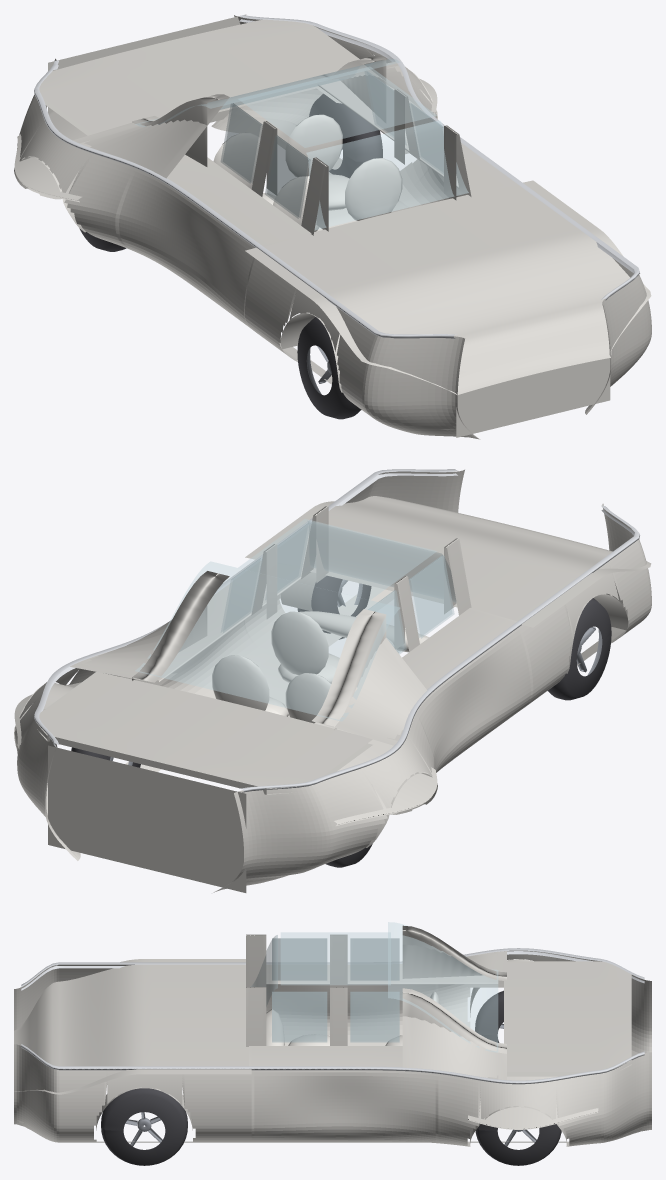
Rendered from ev-sedan-curve.glb.
3 renders of one model, top to bottom at view 1: azimuth 30°, elevation 25°; view 2: azimuth 150°, elevation 25°; view 3: azimuth 270°, elevation 25°, orthographic. The views are drawn at different scales.
Parts seen in each view (by area): view 1: BodyHood, BodySide_L, BodyDeck, Windshield, RoofGlass, BodySide_R, BodyNose, BodyCPillar_L, BodyBeltShelf_L, BodyBeltShelf_R, BodyBeltLip_L, InteriorSeatFRBack (+21 smaller); view 2: BodySide_L, BodyHood, BodyDeck, RearWindow, BodyFascia, BodySide_R, RoofGlass, BodyCPillar_L, BodyCPillar_R, Windshield, BodyBeltShelf_L, BodyBeltShelf_R (+20 smaller); view 3: BodySide_R, BodyHood, BodyDeck, BodySide_L, RearWindow, BodyCPillar_R, RoofGlass, WheelFRTire, BodyCPillar_L, BodyBeltShelf_R, BodyBeltShelf_L, SideWindowFR (+15 smaller).
Part boxes in pixels (box(x1,y1,x2,y2)): BodyHood: box(245, 180, 651, 394); BodySide_L: box(17, 58, 480, 439); BodyDeck: box(39, 19, 359, 135); Windshield: box(306, 120, 468, 230); RoofGlass: box(238, 67, 436, 147); BodySide_R: box(211, 15, 651, 414); BodyNose: box(456, 358, 610, 437); BodyCPillar_L: box(73, 94, 229, 178); BodyBeltShelf_L: box(79, 140, 311, 246); BodyBeltShelf_R: box(318, 65, 518, 194); BodyBeltLip_L: box(34, 60, 457, 338); InteriorSeatFRBack: box(345, 158, 402, 220); BodySide_L: box(213, 503, 651, 892); BodyHood: box(245, 496, 651, 627); BodyDeck: box(37, 672, 372, 794); RearWindow: box(135, 561, 399, 721); BodyFascia: box(48, 745, 246, 892); BodySide_R: box(14, 469, 464, 860); RoofGlass: box(238, 519, 436, 599); BodyCPillar_L: box(312, 609, 427, 745); BodyCPillar_R: box(70, 571, 229, 682); Windshield: box(308, 521, 456, 602); BodyBeltShelf_L: box(387, 608, 517, 740); BodyBeltShelf_R: box(78, 560, 302, 682); BodySide_R: box(14, 1044, 651, 1146); BodyHood: box(14, 959, 251, 1094); BodyDeck: box(504, 961, 631, 1076); BodySide_L: box(14, 950, 651, 1056); RearWindow: box(388, 922, 497, 1052); BodyCPillar_R: box(402, 988, 506, 1080); RoofGlass: box(281, 932, 390, 984); WheelFRTire: box(101, 1088, 187, 1165); BodyCPillar_L: box(402, 925, 506, 981); BodyBeltShelf_R: box(249, 1046, 498, 1079); BodyBeltShelf_L: box(266, 951, 498, 984); SideWindowFR: box(272, 991, 327, 1042).
Size of the model in its own units: 2.65 by 1.2 by 4.4.
